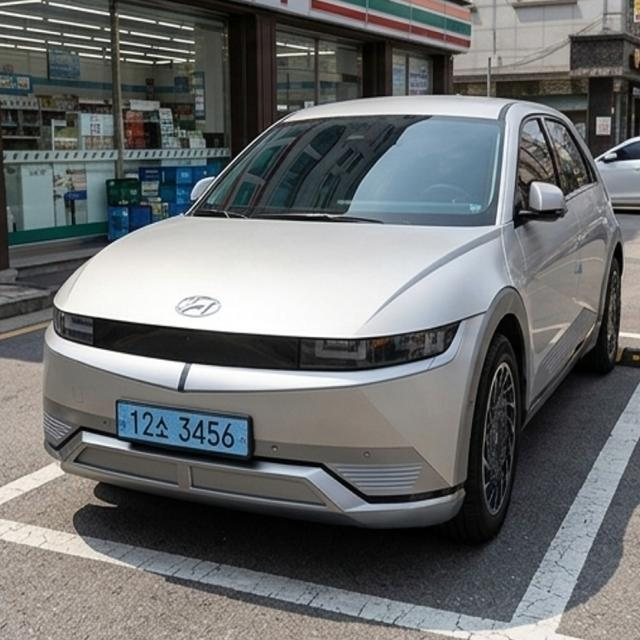car: (99, 380, 285, 472)
carev: (234, 416, 252, 464), (115, 400, 131, 446)
